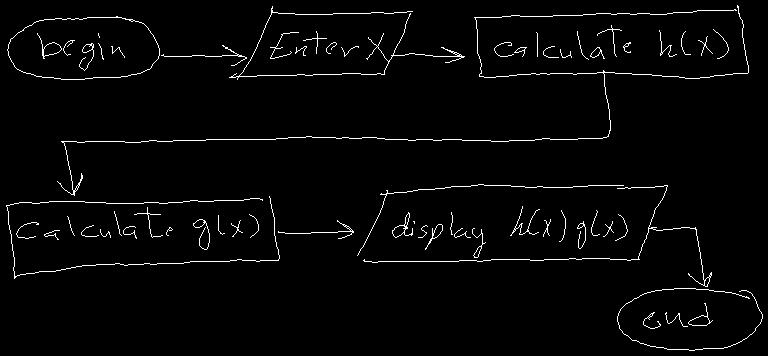arrow: (57, 70, 610, 195), (648, 227, 711, 286), (161, 45, 246, 65), (278, 220, 353, 238), (391, 47, 464, 62)
data: (357, 184, 667, 262), (229, 6, 412, 79)
process: (6, 196, 279, 278), (474, 5, 748, 78)
terminator: (7, 16, 159, 79), (617, 288, 762, 350)
text: (392, 206, 627, 257), (16, 207, 258, 249), (494, 25, 728, 59), (270, 31, 388, 62), (37, 33, 124, 70), (643, 303, 712, 328)
